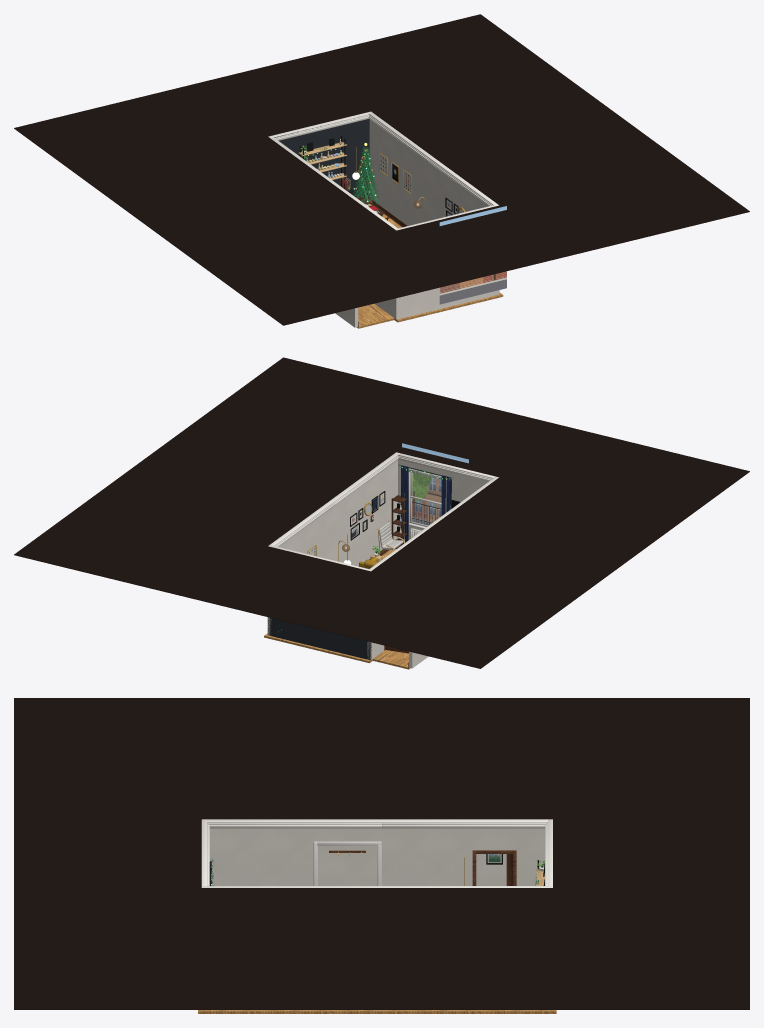
The model's file is double_salon.glb.
3 views of the same model, one above another, from view 1: azimuth 30°, elevation 25°; view 2: azimuth 150°, elevation 25°; view 3: azimuth 270°, elevation 25° (orthographic). The views are drawn at different scales.
Parts seen in each view (by area): view 1: CoupeEst, CoupeOuest, CoupeNord, CoupeSud, MurEstSAM, MurNord, MurEstSalon, VueSalon, SalleAManger, MurSud, Noel, Corridor; view 2: CoupeEst, CoupeOuest, CoupeNord, CoupeSud, MurEstSalon, MurSud, MurNord, MurEstSAM, VueSalon, Salon, Corridor; view 3: CoupeOuest, CoupeEst, CoupeNord, CoupeSud, MurOuestSAM, MurOuestSalon, Corridor, Plancher.
Boxes of the visible parts, <box> form: CoupeEst: <box>299,14,749,256</box>; CoupeOuest: <box>14,83,464,325</box>; CoupeNord: <box>196,58,372,137</box>; CoupeSud: <box>395,205,567,281</box>; MurEstSAM: <box>368,115,429,227</box>; MurNord: <box>274,115,369,199</box>; MurEstSalon: <box>428,159,499,295</box>; VueSalon: <box>439,206,506,304</box>; SalleAManger: <box>298,135,385,216</box>; MurSud: <box>396,287,499,319</box>; Noel: <box>301,143,380,210</box>; Corridor: <box>335,303,394,328</box>; CoupeEst: <box>14,357,464,599</box>; CoupeOuest: <box>299,427,749,668</box>; CoupeNord: <box>195,545,372,624</box>; CoupeSud: <box>396,402,567,478</box>; MurEstSalon: <box>334,456,398,566</box>; MurSud: <box>398,456,492,544</box>; MurNord: <box>267,617,371,659</box>; MurEstSAM: <box>267,502,335,635</box>; VueSalon: <box>402,443,468,525</box>; Salon: <box>359,495,460,568</box>; Corridor: <box>373,650,428,669</box>; CoupeOuest: <box>14,698,749,823</box>; CoupeEst: <box>14,886,749,1009</box>; CoupeNord: <box>547,819,749,887</box>; CoupeSud: <box>14,819,207,887</box>; MurOuestSAM: <box>382,823,546,885</box>; MurOuestSalon: <box>207,823,381,885</box>; Corridor: <box>317,845,506,885</box>; Plancher: <box>198,1010,556,1013</box>.
Size of the model in its own units: 16 by 3.11 by 16.
97 materials, 30 textured.
